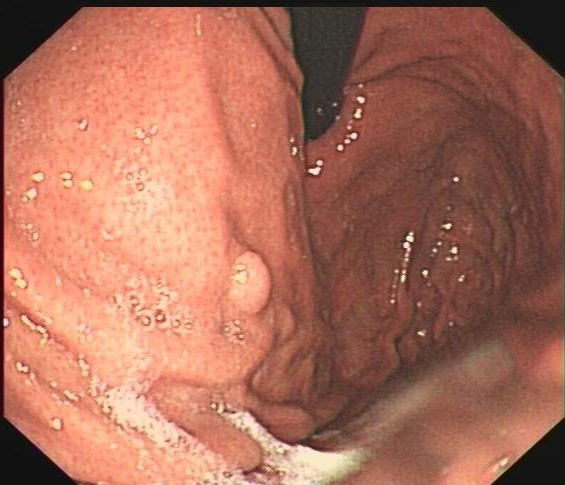Polyp: (214, 229, 290, 335)
